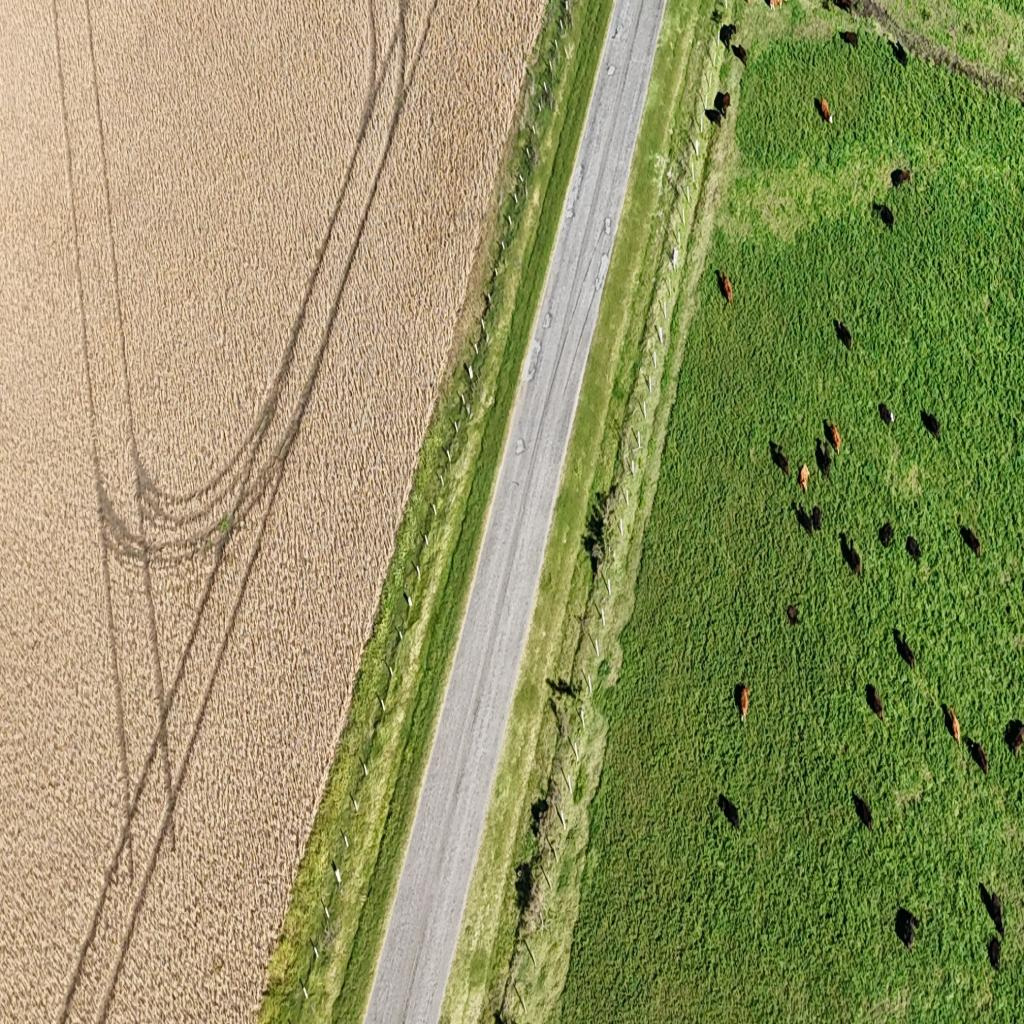cow: (980, 884, 1004, 936), (895, 906, 920, 952), (895, 629, 915, 669), (842, 535, 861, 577), (719, 794, 740, 832), (853, 792, 873, 831), (1004, 720, 1024, 759), (968, 739, 988, 777), (942, 704, 960, 746), (960, 526, 982, 558), (771, 442, 790, 478), (866, 683, 884, 721), (815, 438, 832, 478), (735, 682, 750, 724), (835, 319, 853, 352), (824, 420, 841, 453), (816, 96, 834, 126), (921, 411, 940, 439), (718, 268, 732, 305), (714, 90, 731, 120), (988, 934, 1002, 970), (875, 203, 894, 229), (796, 506, 813, 534), (878, 520, 894, 549), (719, 22, 736, 48), (891, 168, 912, 188), (889, 38, 905, 64), (880, 402, 896, 427), (906, 536, 921, 562), (732, 43, 747, 68), (798, 463, 810, 493), (705, 107, 722, 128), (840, 30, 858, 48), (832, 0, 853, 15), (811, 504, 822, 532), (787, 604, 800, 625), (768, 0, 783, 12)
